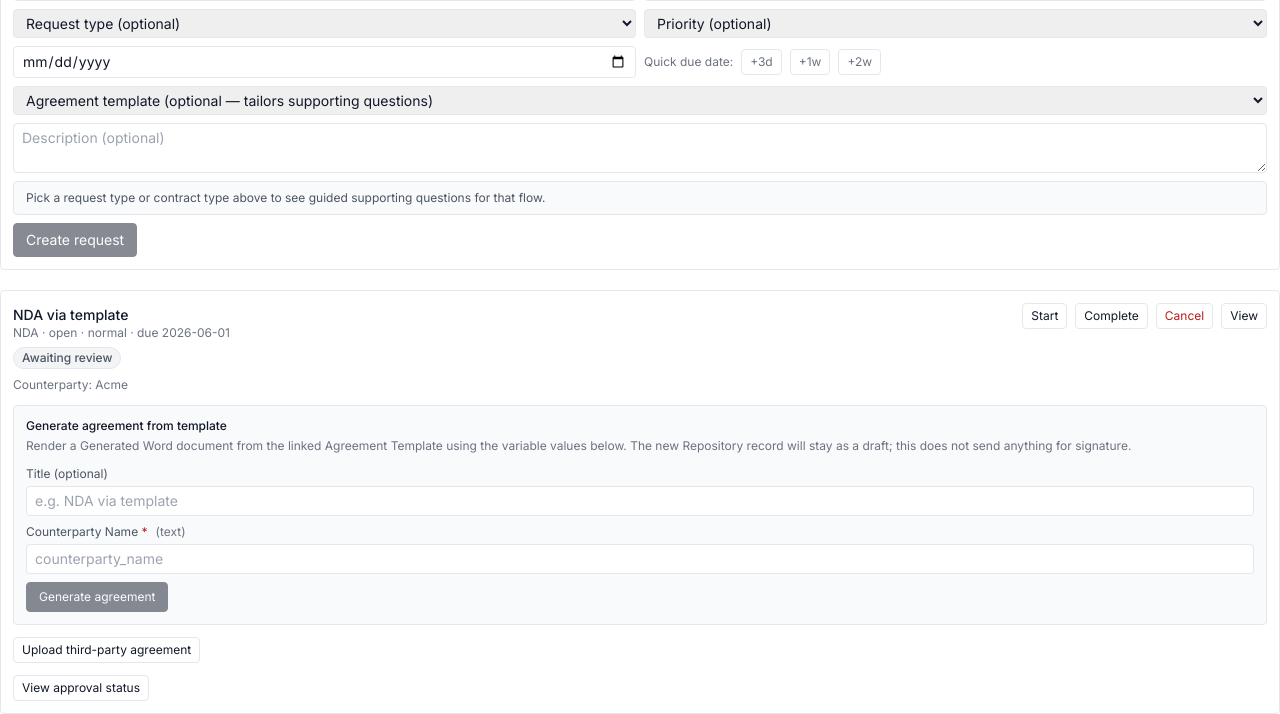
Test case: RequestsPage › converts a request and swaps the row state in place
(page scrolled)
Expected: the link "NDA via template" is shown, [13,306,128,323]
Type "Acme" into the field with test id "request-convert-input-counterparty_name" at (640, 559), box [26,544,1254,574]
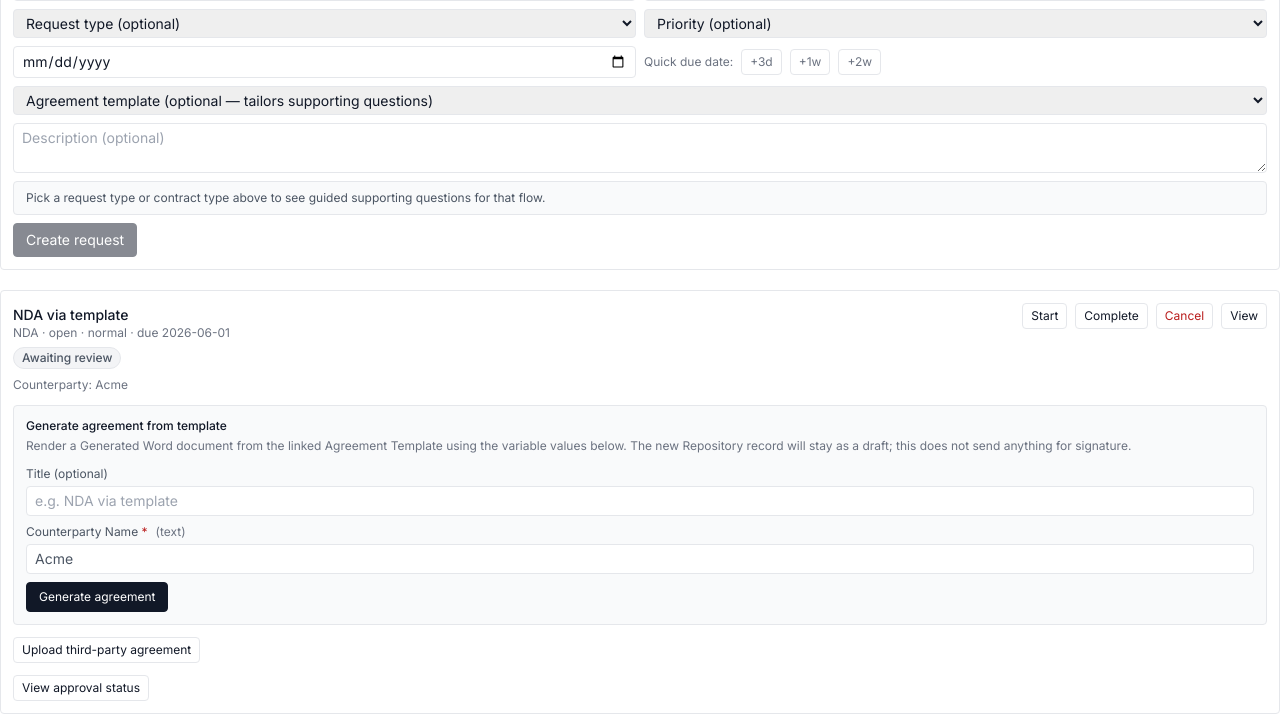
Click the button with test id "request-convert-submit" at (97, 597), box [26,582,168,612]
(page scrolled)
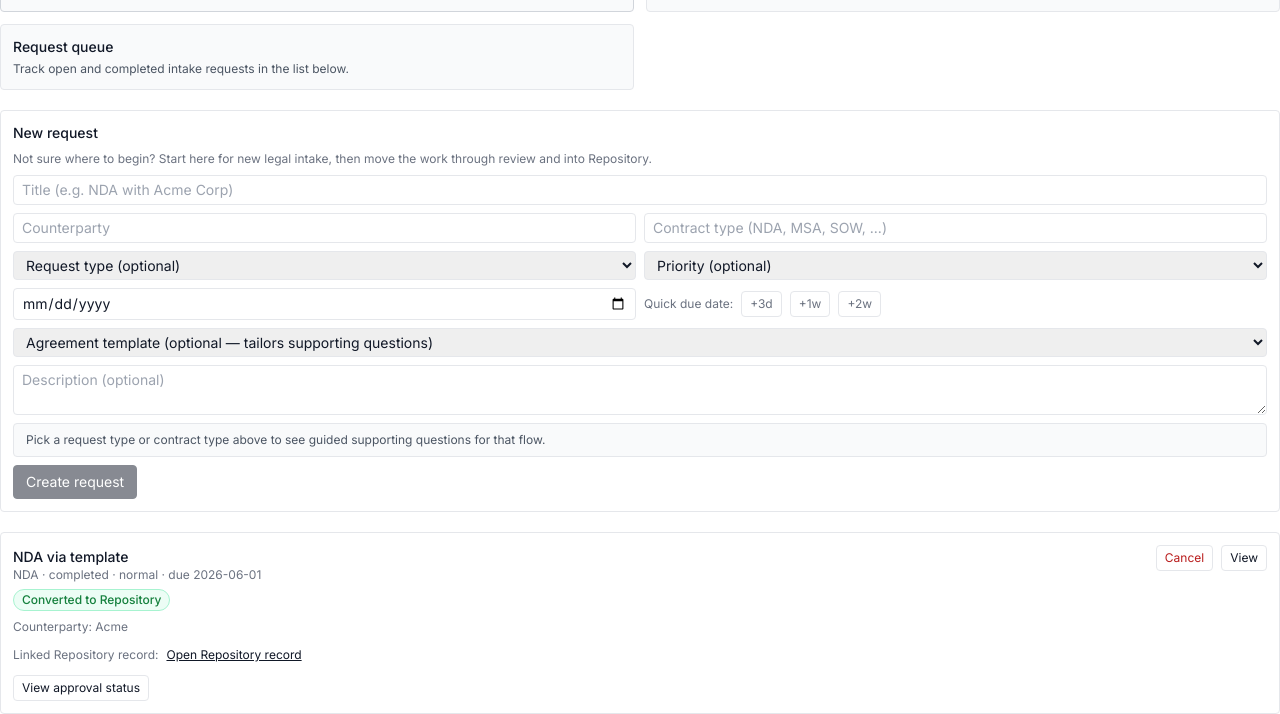
Result: the text with test id "request-status" reads "completed" at [49,567,109,582]
